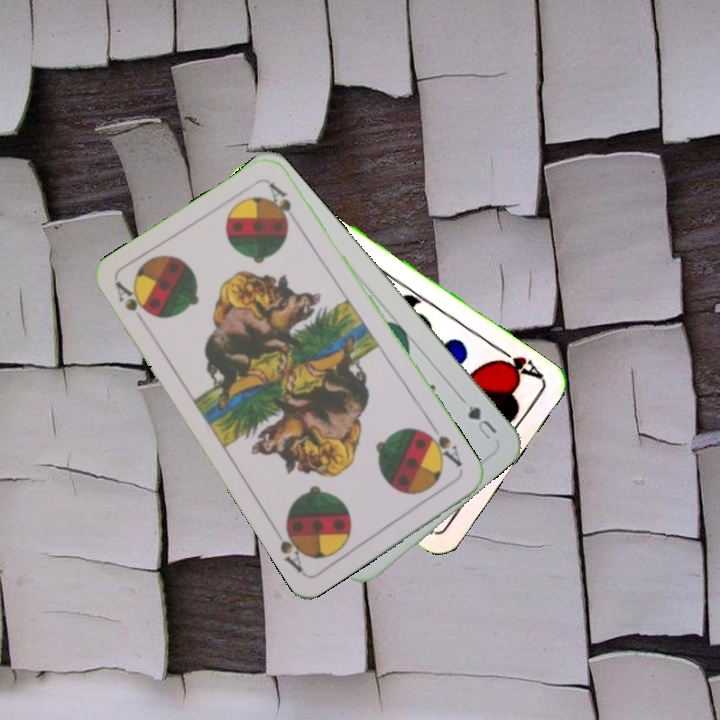GU: (463, 400, 500, 445)
HA: (490, 342, 546, 382)
SA: (111, 277, 155, 331), (419, 420, 465, 471)
